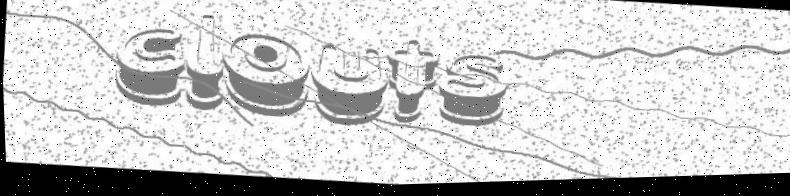c: (109, 25, 190, 111)
l: (181, 12, 230, 113)
o: (217, 31, 315, 122)
s: (434, 53, 511, 134)
t: (380, 39, 441, 130)
u: (306, 40, 393, 131)
